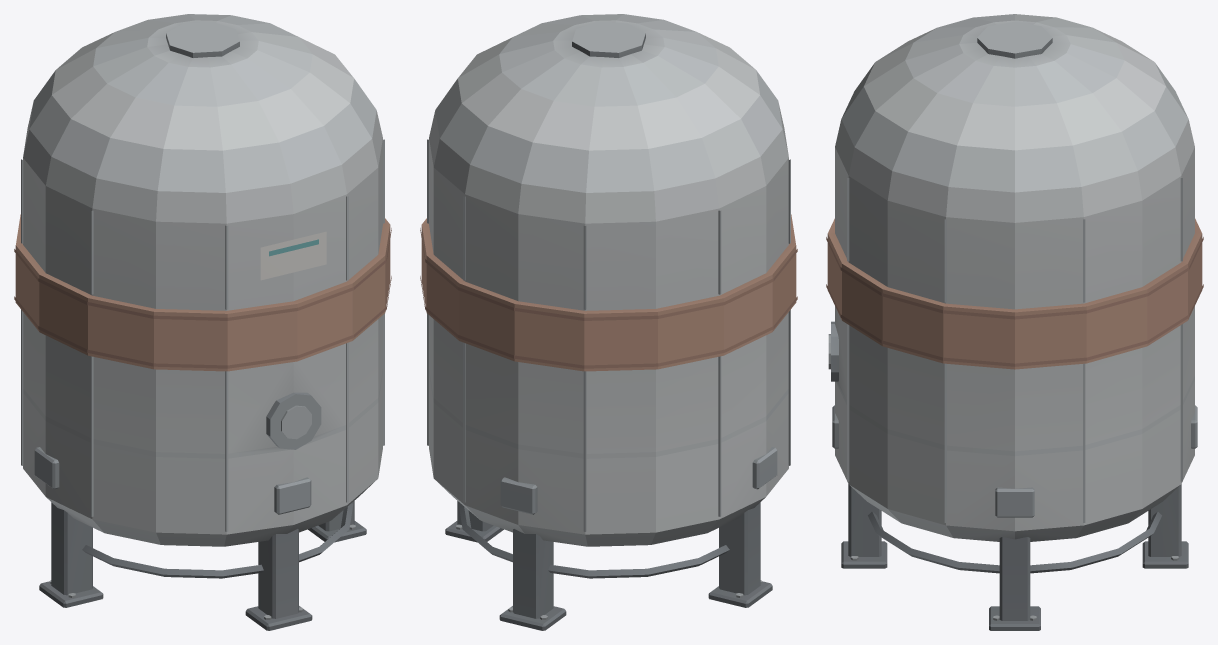
File: tank.glb
3 renders of one model, left to right at view 1: azimuth 30°, elevation 25°; view 2: azimuth 150°, elevation 25°; view 3: azimuth 270°, elevation 25°, orthographic.
Size of the model in its own units: 4.19 by 6.37 by 4.19.
